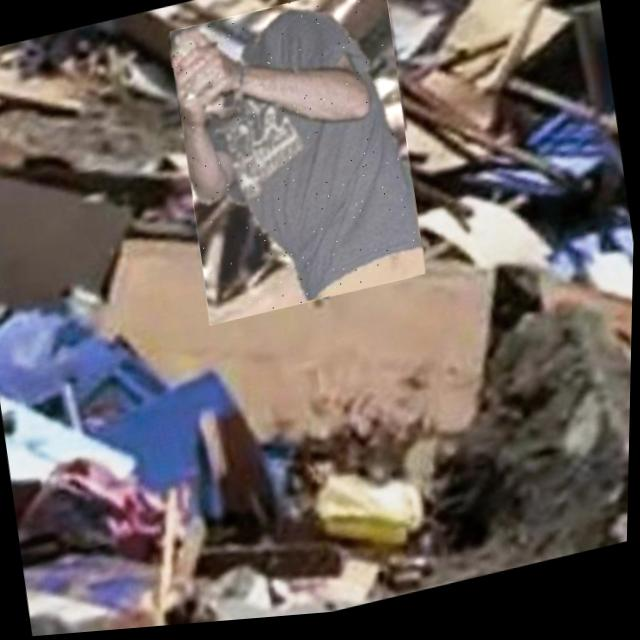Person in Rubble: (164, 0, 433, 332)
